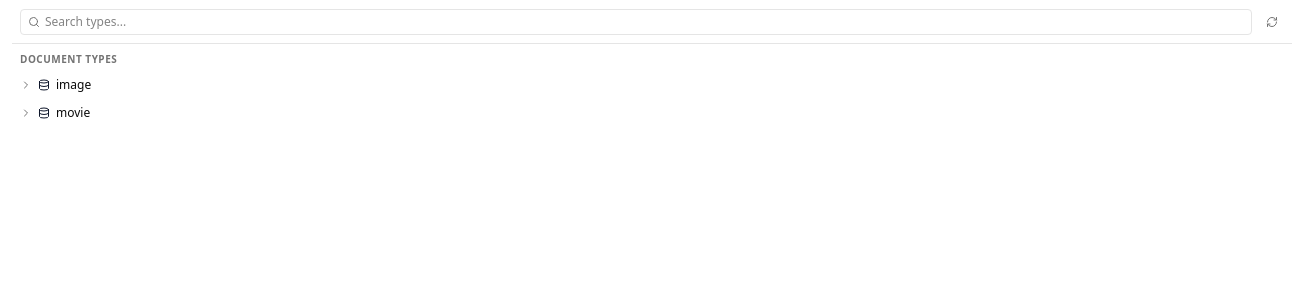
Test: SchemaPanel › resolves refs through inline object types (movie → poster → asset → image fields)
Click the button "movie". click: (73, 112)
box: [12,99,1292,127]
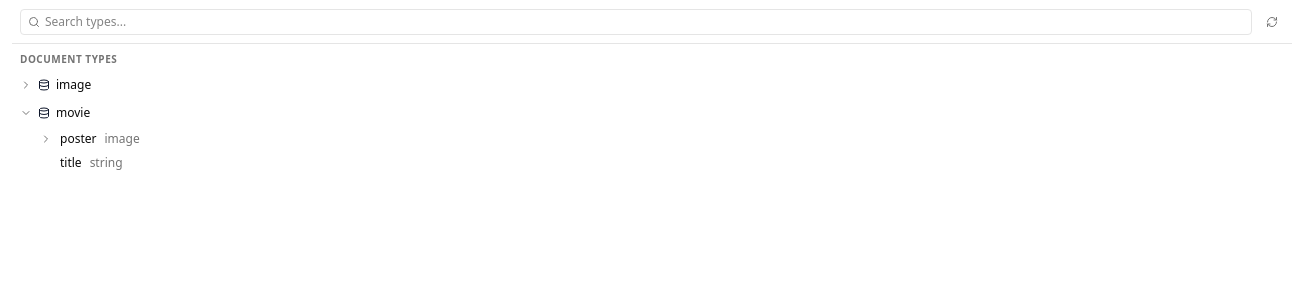
Click the text "poster". click: (78, 139)
box: [60,131,96,147]
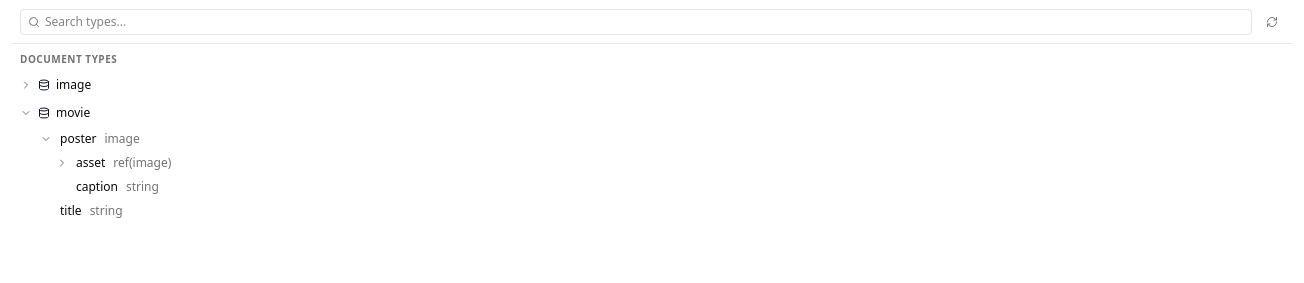
Expected: the text "caption" is shown, [76,179,118,195]
Click the text "asset". click: (91, 163)
box: [76,155,105,171]
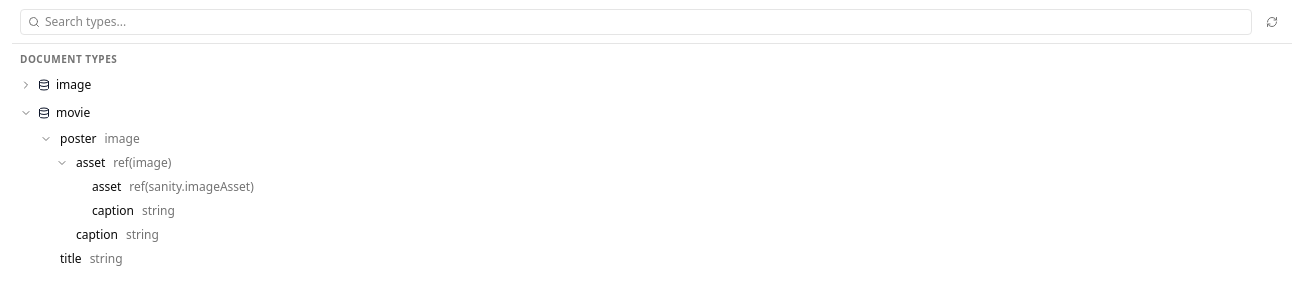
Expected: the text "caption" is shown 2 times, [92,203,134,219]; [76,227,118,243]
